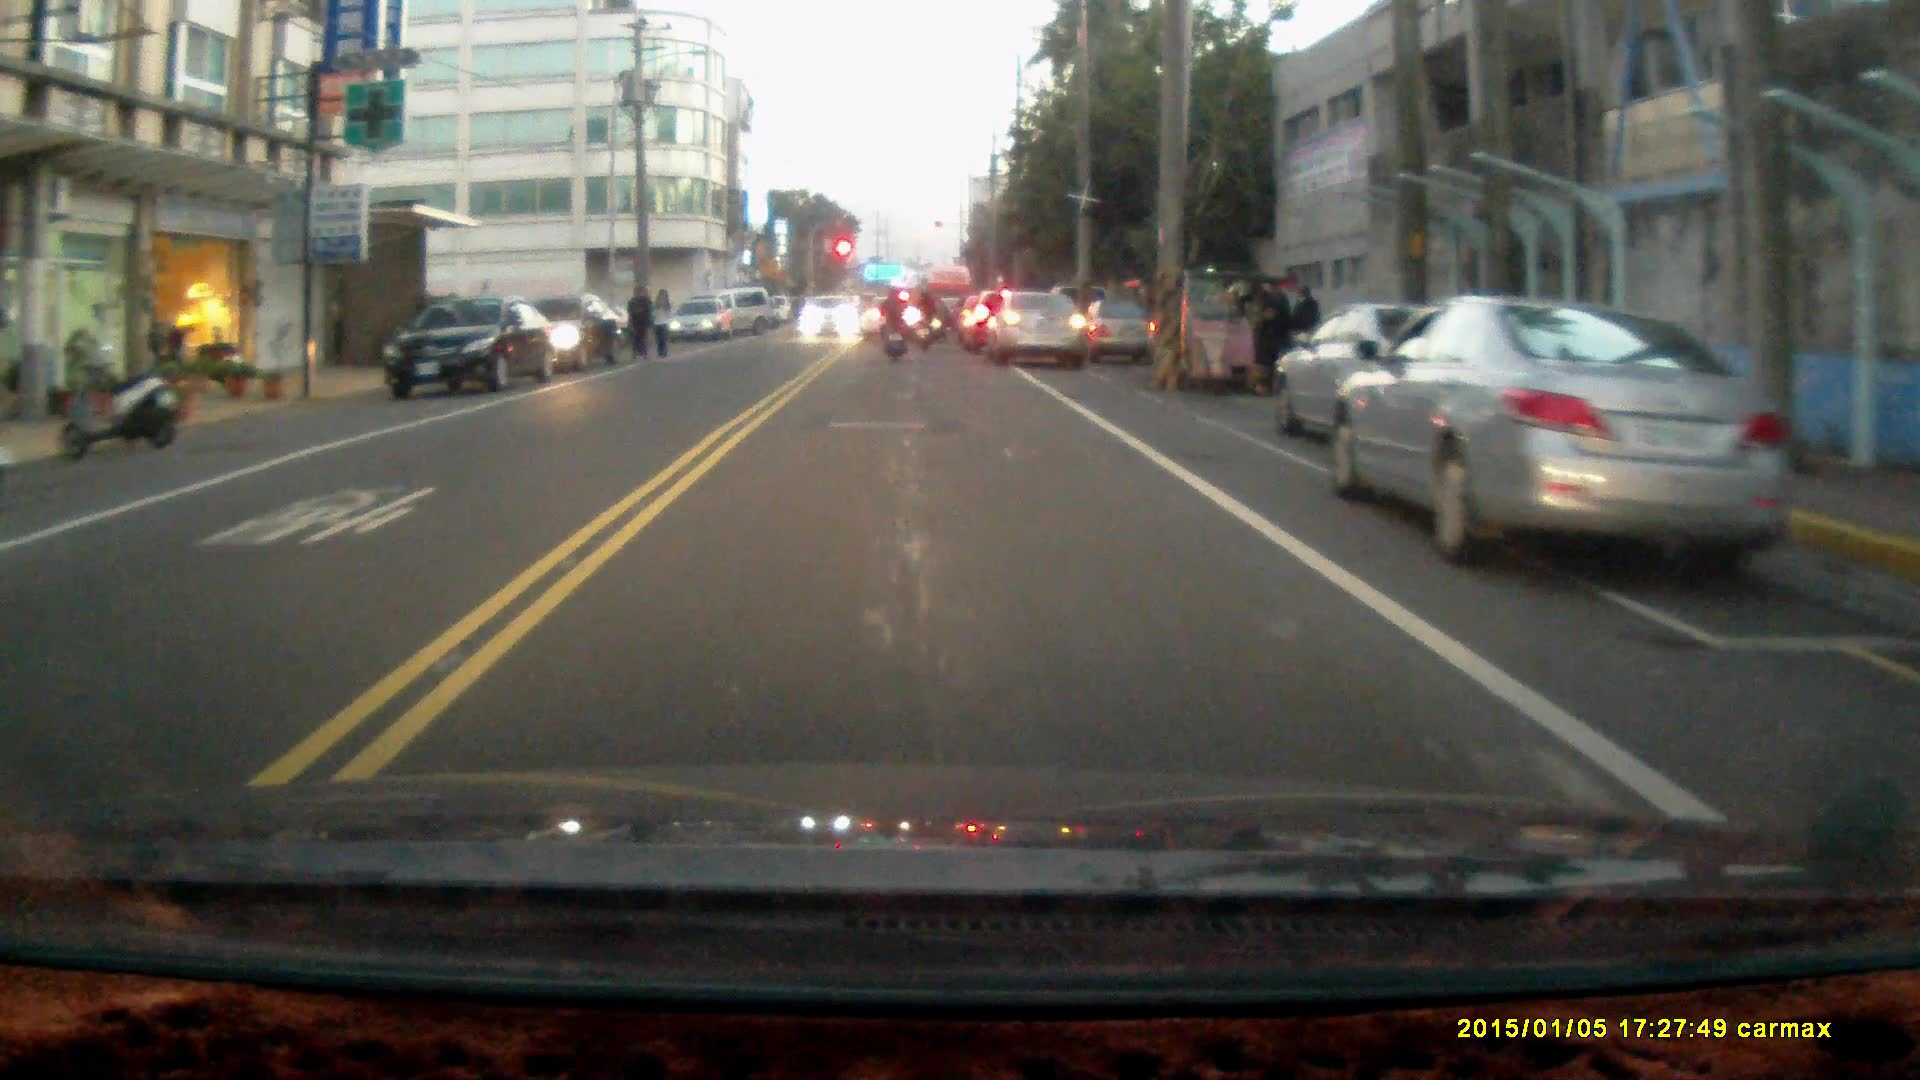pedestrian: (1287, 281, 1323, 375), (624, 281, 655, 363), (649, 285, 671, 363)
rider: (875, 285, 908, 359), (908, 288, 937, 353)
vehicle: (1326, 294, 1792, 573), (1135, 267, 1287, 391), (387, 292, 562, 397), (989, 284, 1094, 365), (670, 298, 733, 344), (799, 294, 859, 342)
